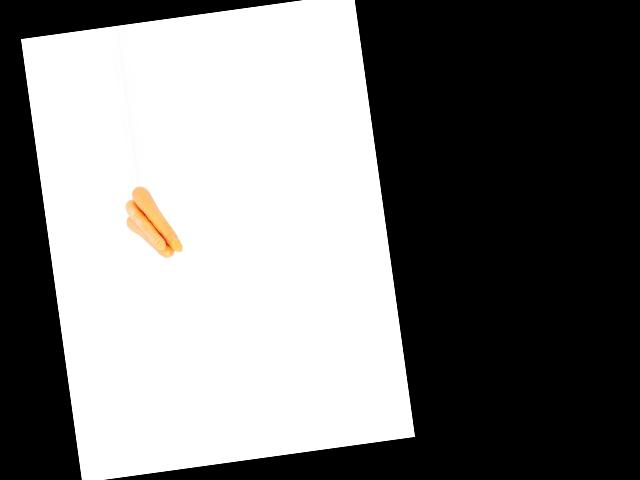carrot: (130, 181, 181, 255)
